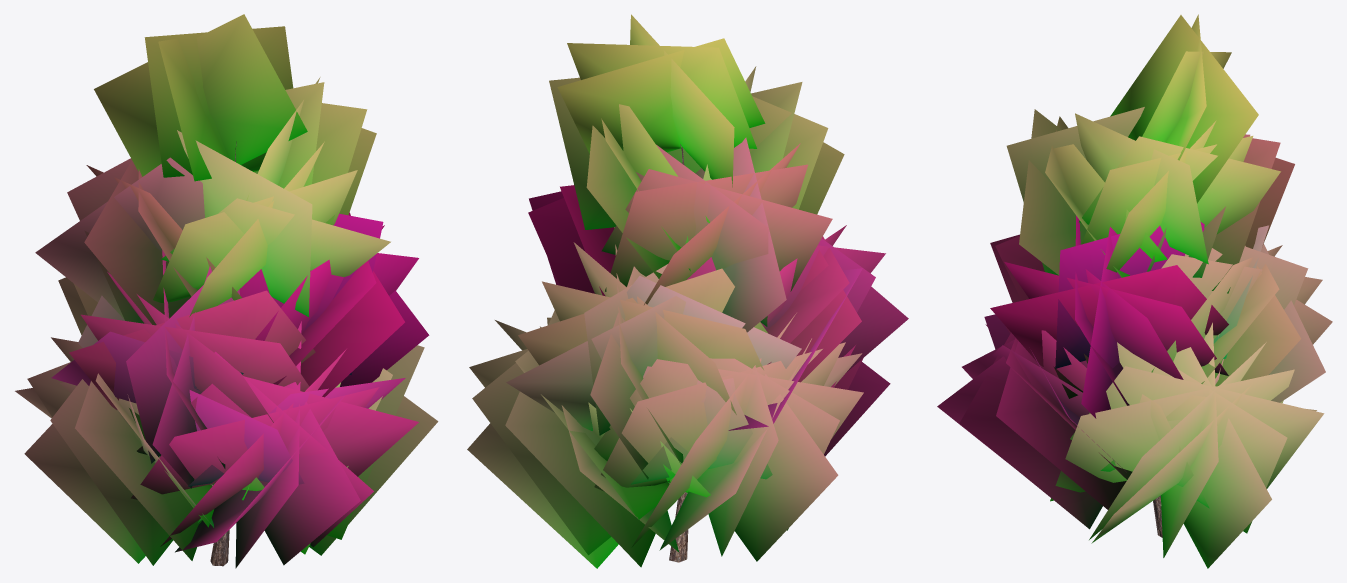
Rendered from Tree12.fbx.
3 renders of one model, left to right at view 1: azimuth 30°, elevation 25°; view 2: azimuth 150°, elevation 25°; view 3: azimuth 270°, elevation 25°, orthographic. The views are drawn at different scales.
Parts seen in each view (by area): view 1: Tree_1; view 2: Tree_1, Tree_0; view 3: Tree_1.
Part boxes in pixels (x1,y1,x2,y2): Tree_1: [15, 14, 438, 568]; Tree_1: [467, 14, 908, 568]; Tree_0: [669, 144, 688, 562]; Tree_1: [937, 14, 1332, 568].
Bounding box in the file's own units: 419 × 587 × 415.
